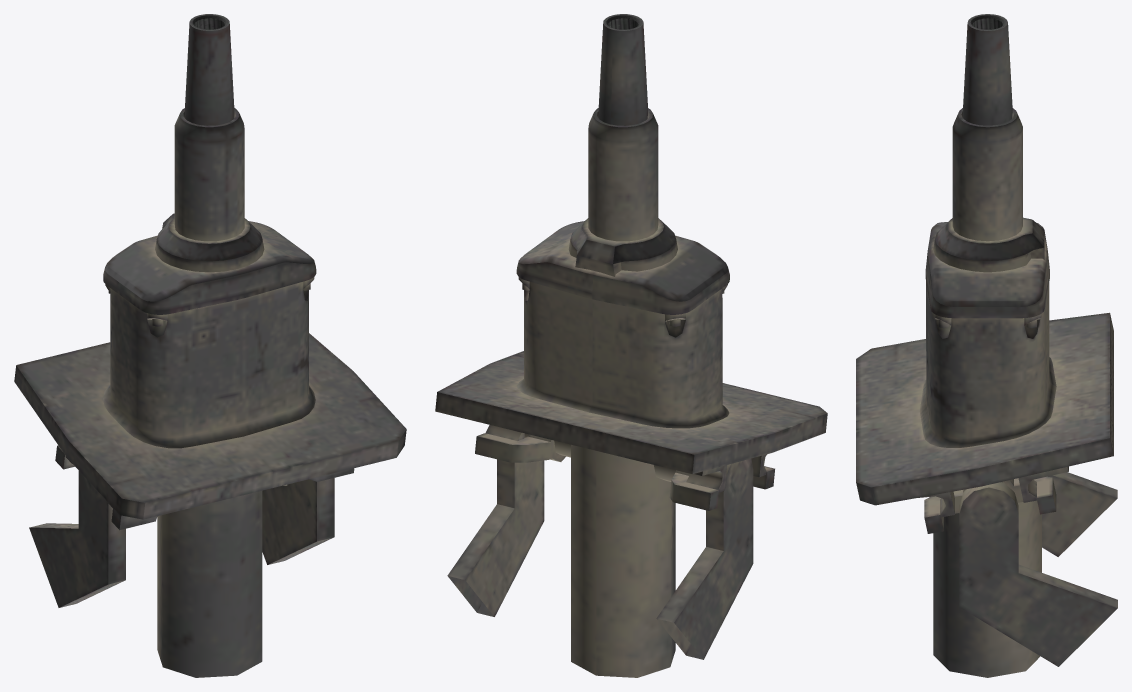
Rendered from Gun_01.glb.
3 renders of one model, left to right at view 1: azimuth 30°, elevation 25°; view 2: azimuth 150°, elevation 25°; view 3: azimuth 270°, elevation 25°, orthographic.
Visible parts, largest first — view 1: set_0_group_0; view 2: set_0_group_0; view 3: set_0_group_0.
Part boxes in pixels (left/top/right/bottom): set_0_group_0: left=14, top=14, right=406, bottom=677; set_0_group_0: left=435, top=14, right=827, bottom=677; set_0_group_0: left=856, top=14, right=1117, bottom=677.
Bounding box in the file's own units: 0.8087 × 1.72 × 0.6446.
Materials: 1 (1 with a texture image).
